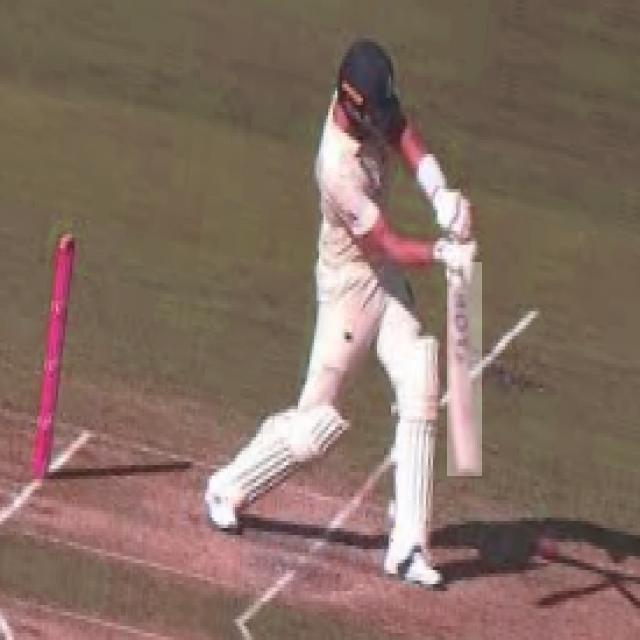bat: (446, 260, 487, 481)
toe: (454, 463, 481, 477)
